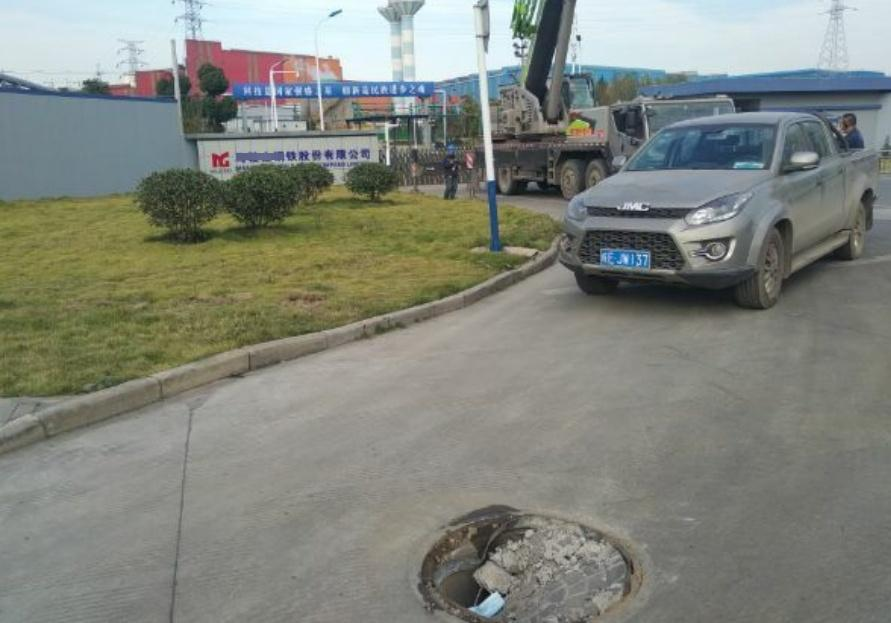wellcover: (399, 492, 657, 623)
